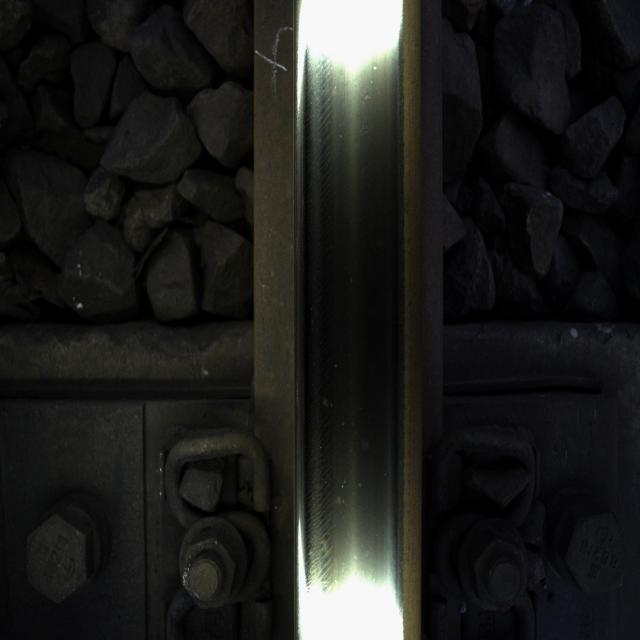break: (304, 31, 391, 602)
